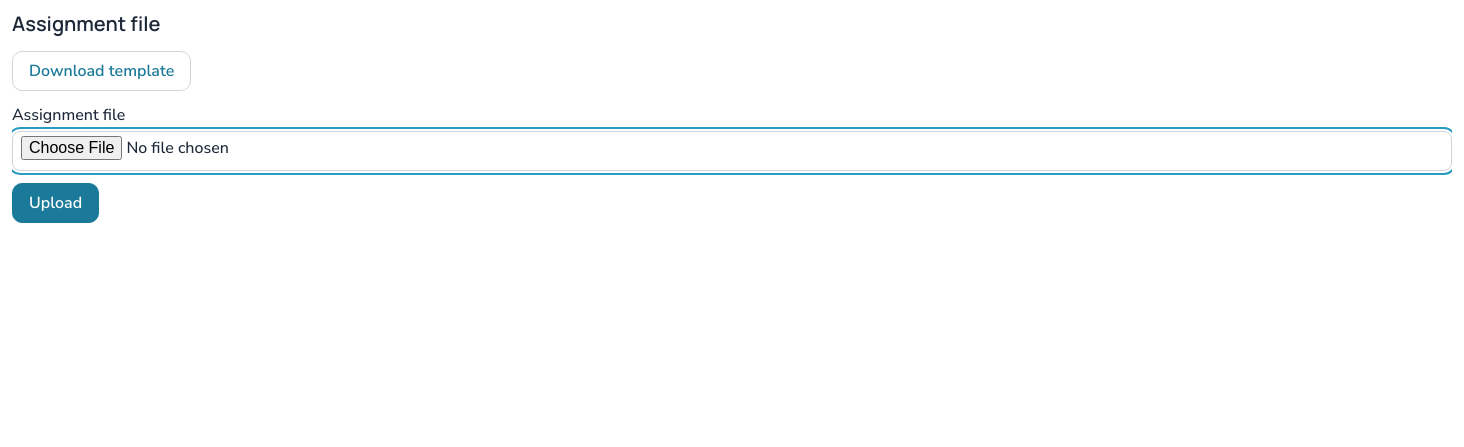
Test: AssignmentFileUpload › BPA12_uploadIsRecorded
This screenshot has width=1464, height=447.
Earlier steps of the test are not shown.
Later steps or results of the test are not shown.
Click the button "Upload".
click(56, 203)  # box [12,183,99,223]
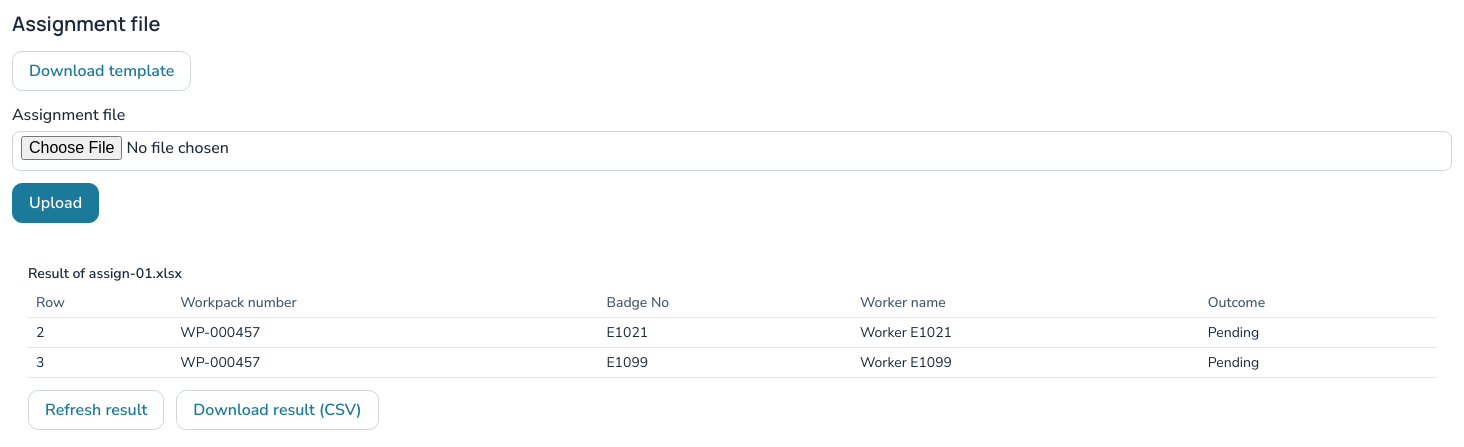
Expected: the table "Result of assign-01.xlsx" is shown, [28,263,1436,378]
